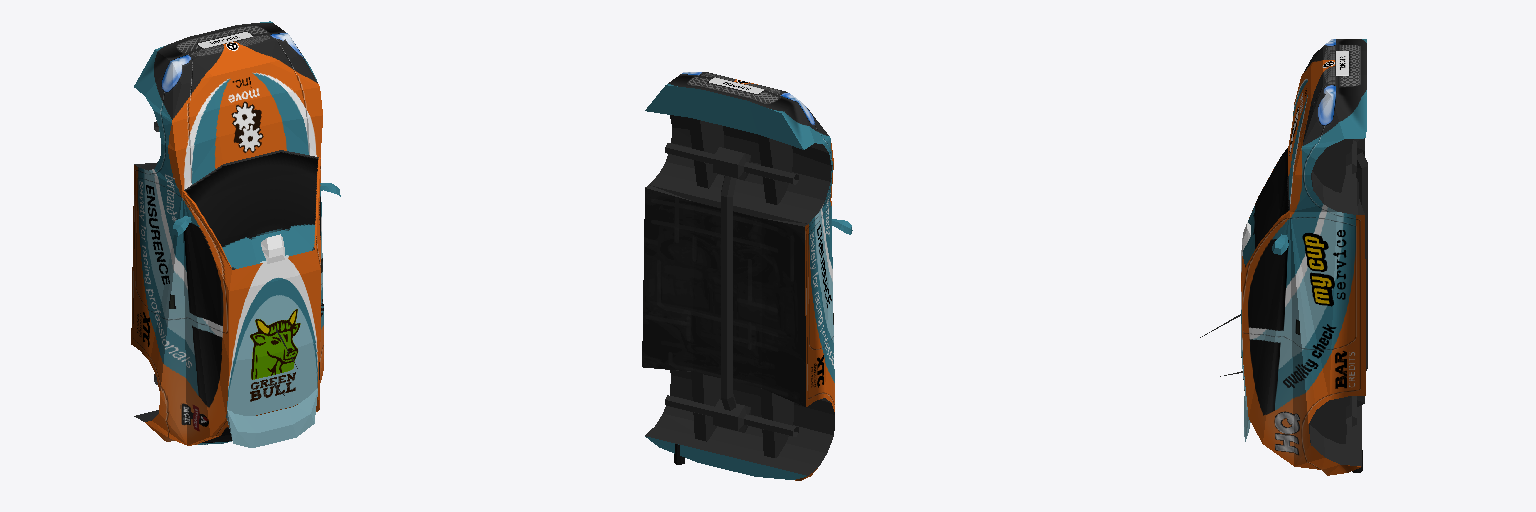
3 renders of one model, left to right at view 1: azimuth 30°, elevation 25°; view 2: azimuth 150°, elevation 25°; view 3: azimuth 270°, elevation 25°, orthographic.
Parts seen in each view (by area): view 1: body_Box01; view 2: body_Box01; view 3: body_Box01.
Boxes of the visible parts, x1=… form: body_Box01: x1=131, y1=21, x2=340, y2=447; body_Box01: x1=642, y1=72, x2=852, y2=480; body_Box01: x1=1200, y1=39, x2=1367, y2=475.
Size of the model in its own units: 3.54 by 7.81 by 3.23.
1 materials, 1 textured.